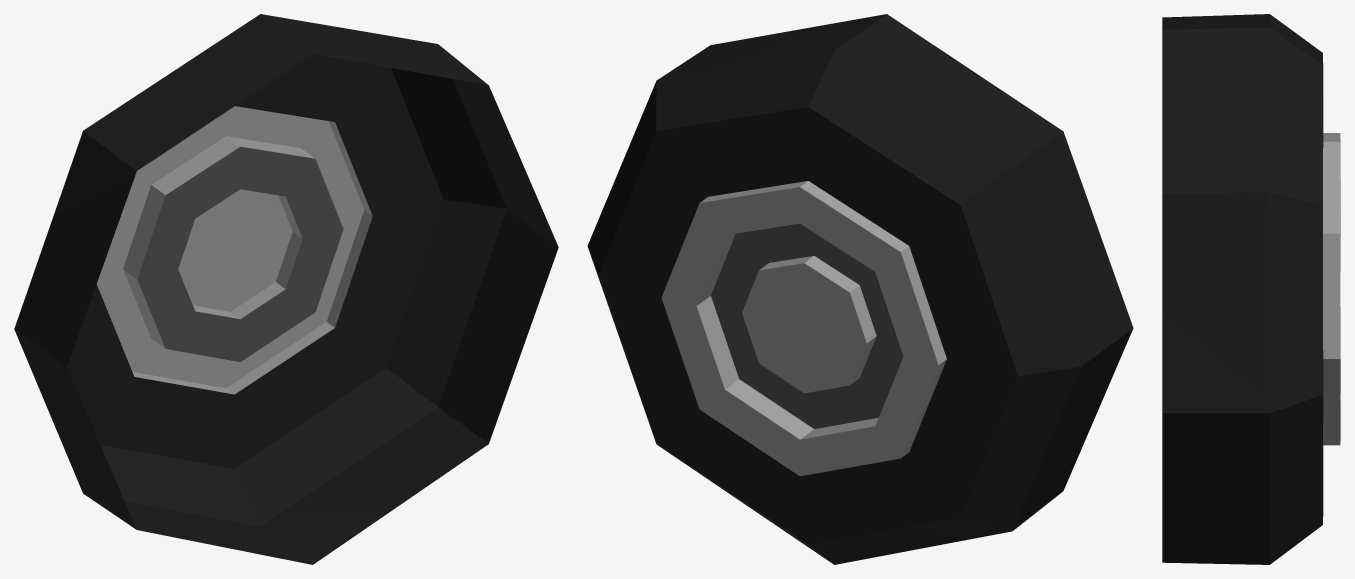
File: Wheel 01.FBX
3 views of the same model, side by side, from view 1: azimuth 30°, elevation 25°; view 2: azimuth 150°, elevation 25°; view 3: azimuth 270°, elevation 25° (orthographic). The views are drawn at different scales.
Visible parts, largest first — view 1: Wheel 01; view 2: Wheel 01; view 3: Wheel 01.
Part boxes in pixels (x1=…): Wheel 01: x1=14, y1=14, x2=558, y2=564; Wheel 01: x1=587, y1=14, x2=1133, y2=564; Wheel 01: x1=1162, y1=14, x2=1340, y2=564.
Size of the model in its own units: 117 by 116 by 35.69.
1 material, 1 textured.
